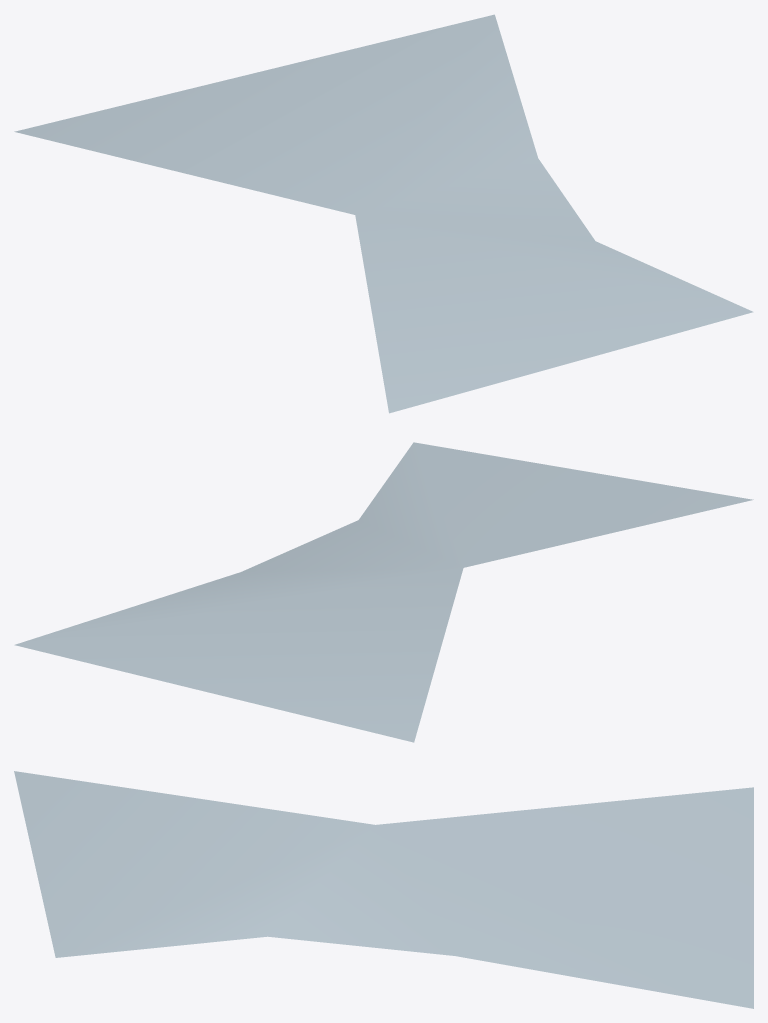
Rendered from suelo_nieve_p3.fbx.
The picture shows the model from 3 angles, top to bottom: view 1: azimuth 30°, elevation 25°; view 2: azimuth 150°, elevation 25°; view 3: azimuth 270°, elevation 25°; orthographic projection. The views are drawn at different scales.
Visible parts, largest first — view 1: Cylinder004; view 2: Cylinder004; view 3: Cylinder004.
Part boxes in pixels (x1,y1,x2,y2): Cylinder004: [14, 14, 753, 413]; Cylinder004: [14, 442, 753, 742]; Cylinder004: [14, 771, 753, 1008].
Size of the model in its own units: 30.1 by 1.68 by 41.05.
